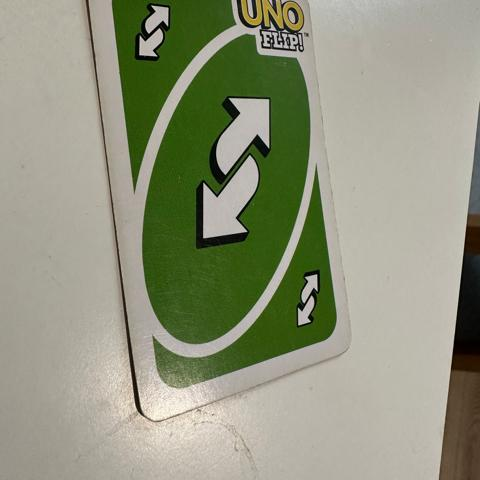lgreenrevers-20: (117, 1, 198, 81)
